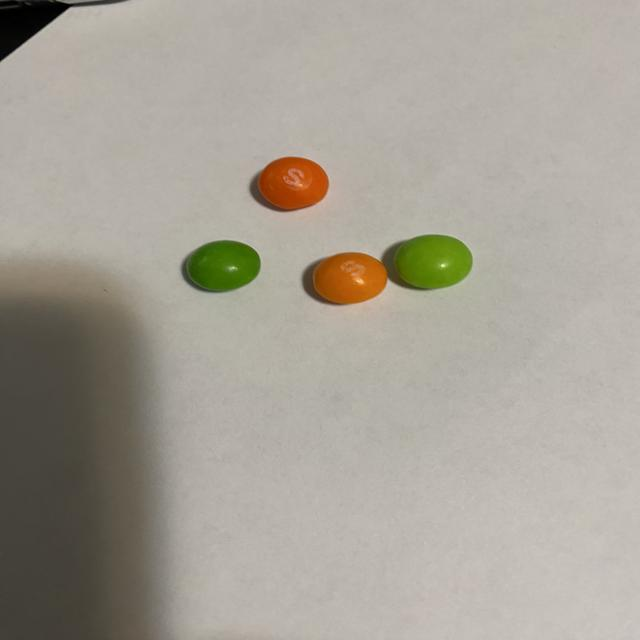smartie: (394, 235, 472, 288), (186, 240, 260, 291), (313, 252, 387, 303), (258, 156, 328, 209)
